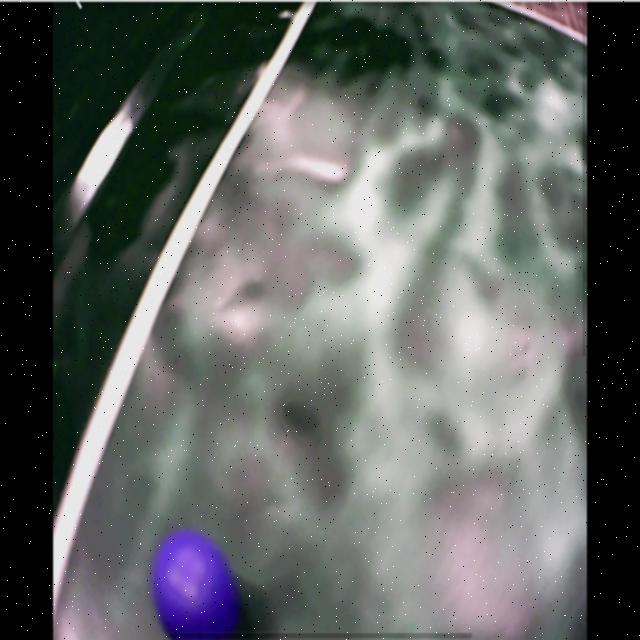ball: (153, 530, 237, 640)
